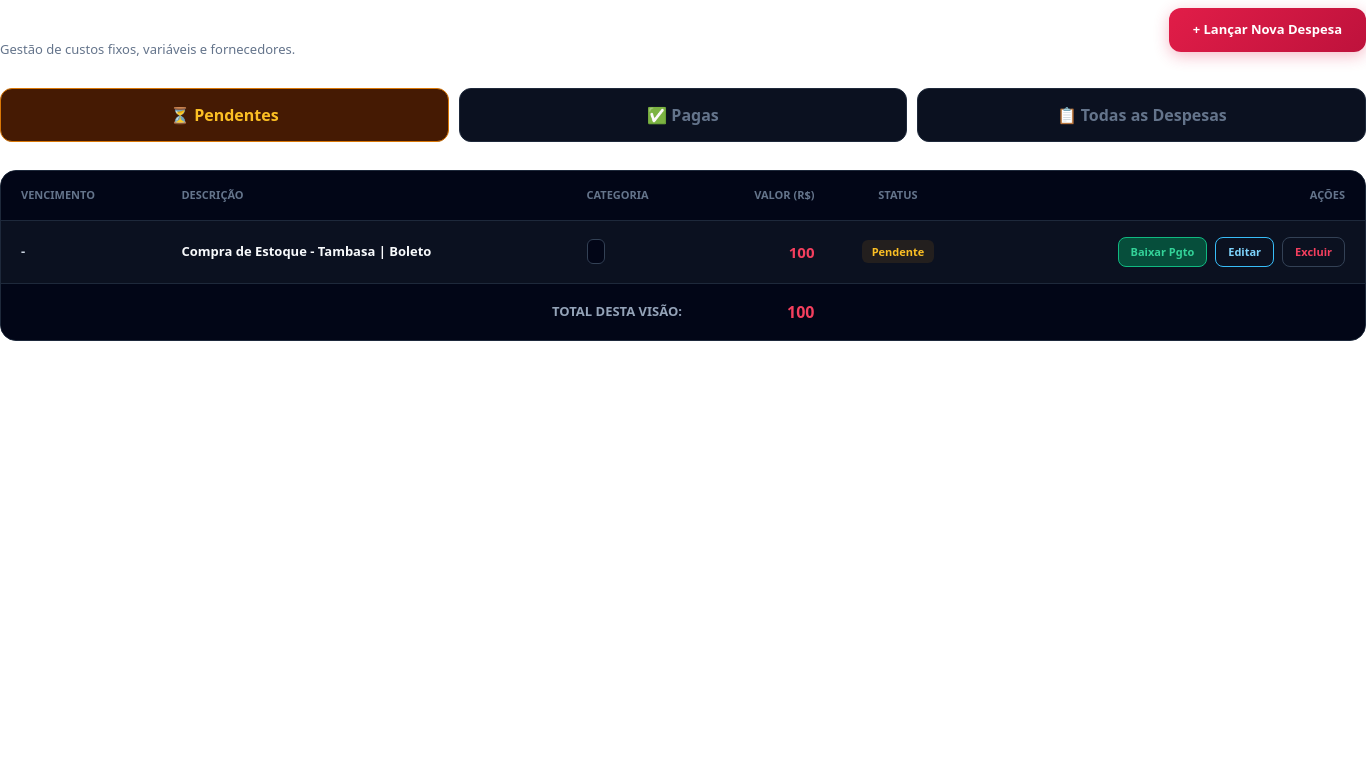
Test: despesa de compra nunca é excluída pelo módulo de despesas
What coordinates should you click on to do the following:
click the button "Excluir"
I would click on:
 (1314, 252)
Its box is [1282,236,1345,267].
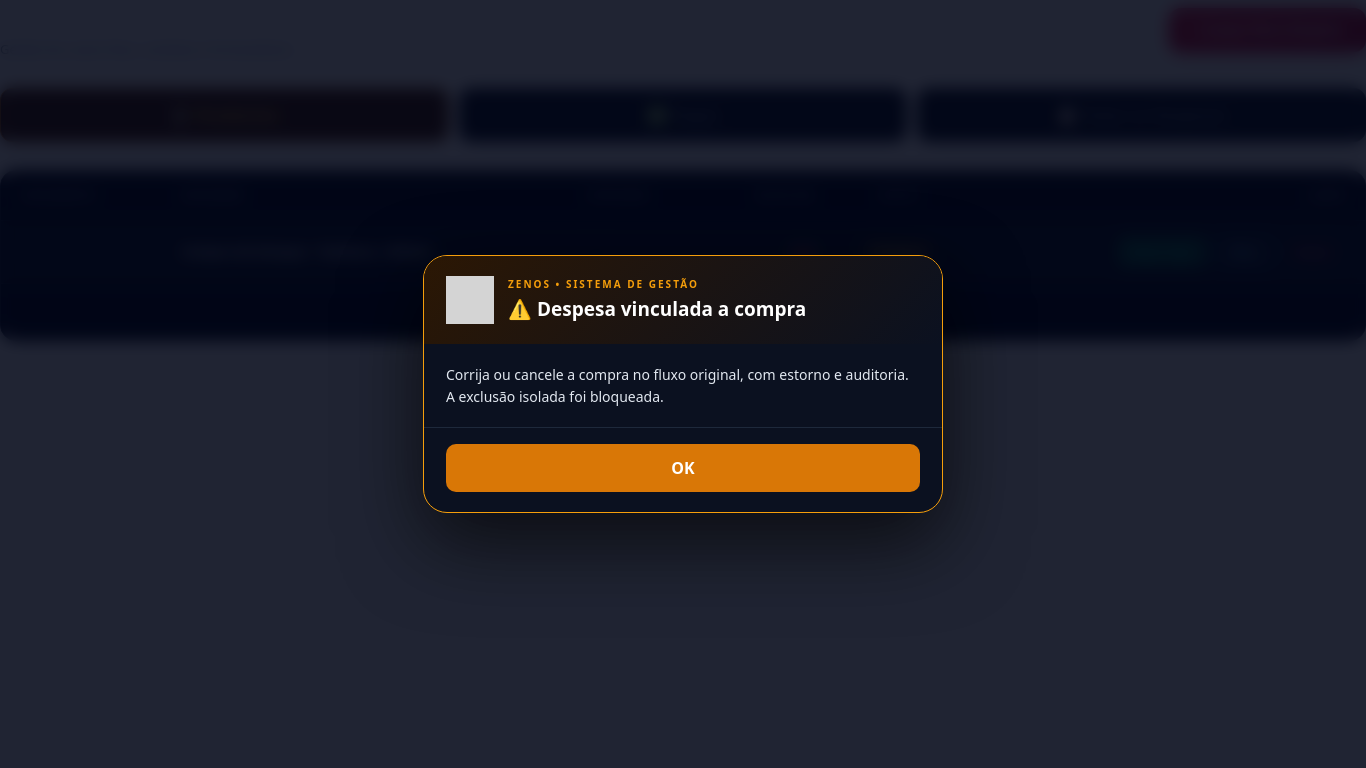
Check: the text "⚠️ Despesa vinculada a compra" is shown, box [508,296,806,322]
